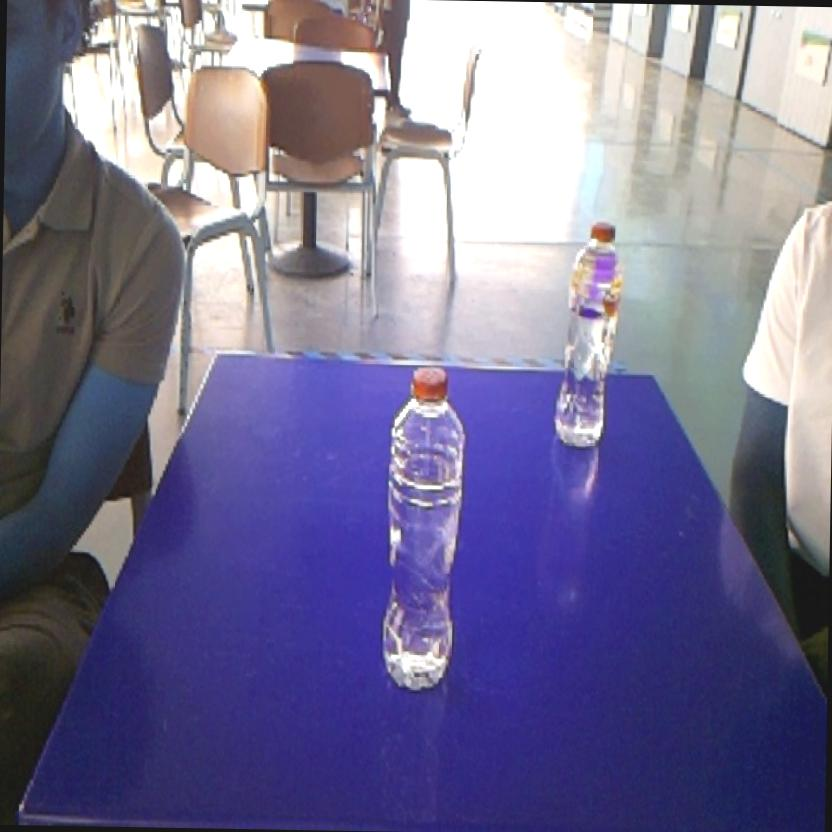good: (545, 211, 636, 456)
no_label: (365, 352, 481, 704)
